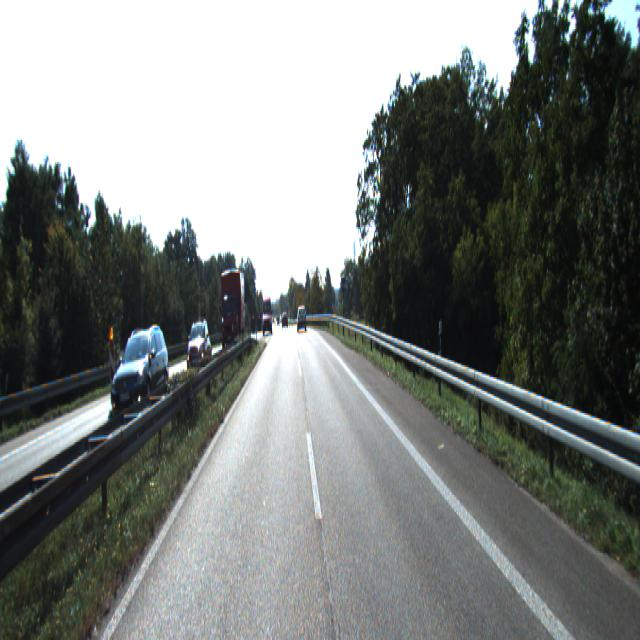Car: (109, 326, 170, 430), (218, 268, 247, 355), (185, 317, 212, 378), (297, 308, 306, 332)
